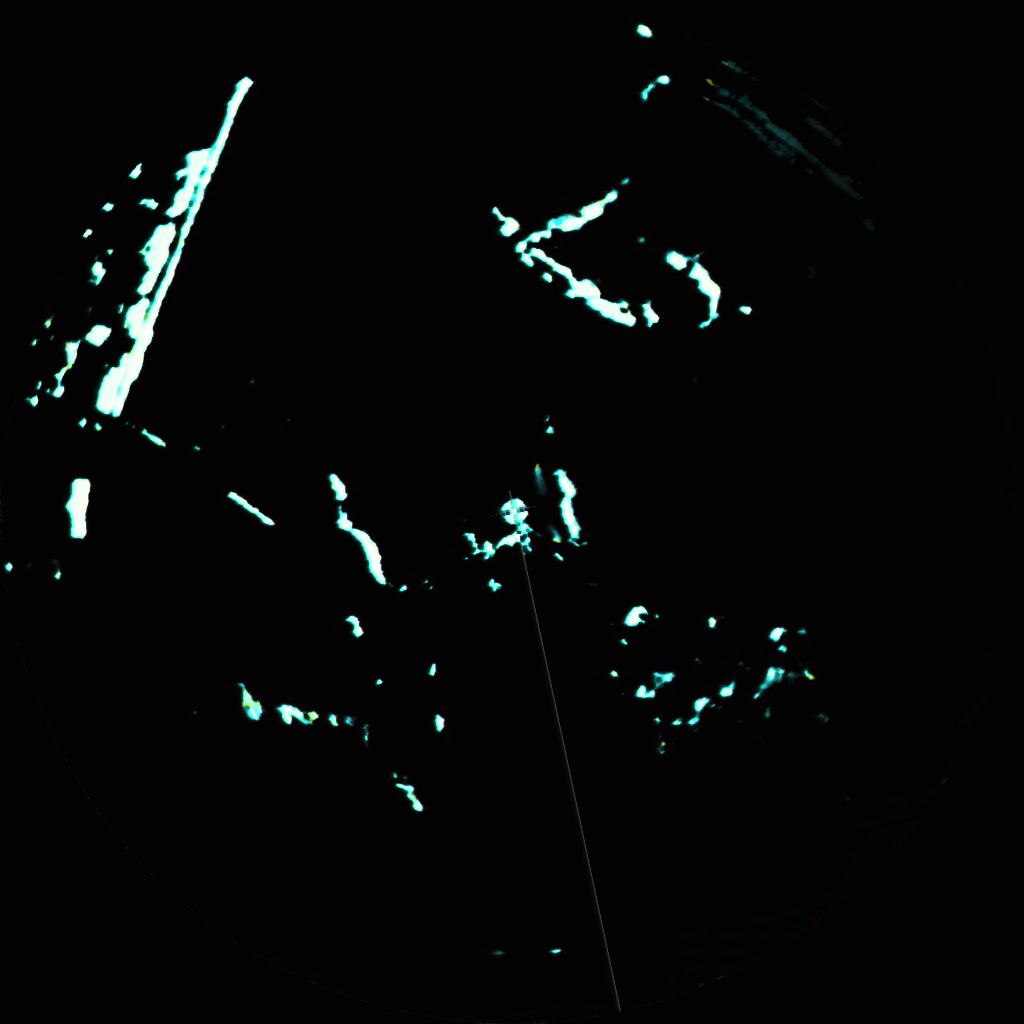B: (533, 466, 543, 489), (548, 530, 561, 543)
